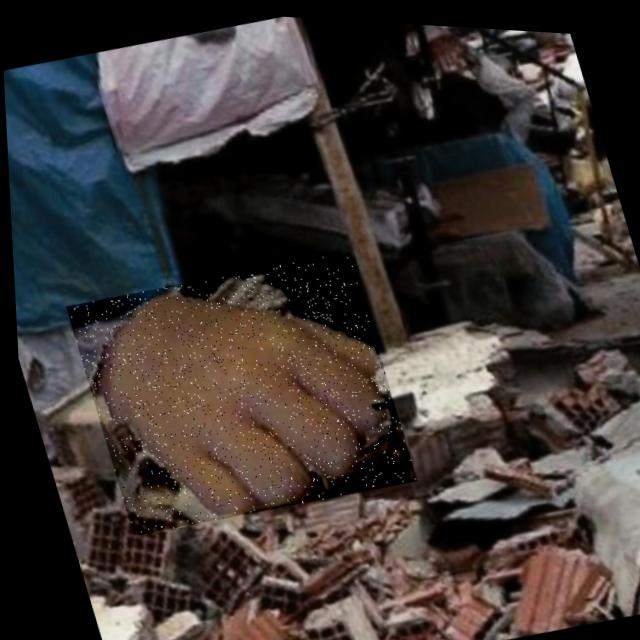Person in Rubble: (59, 233, 415, 547)
